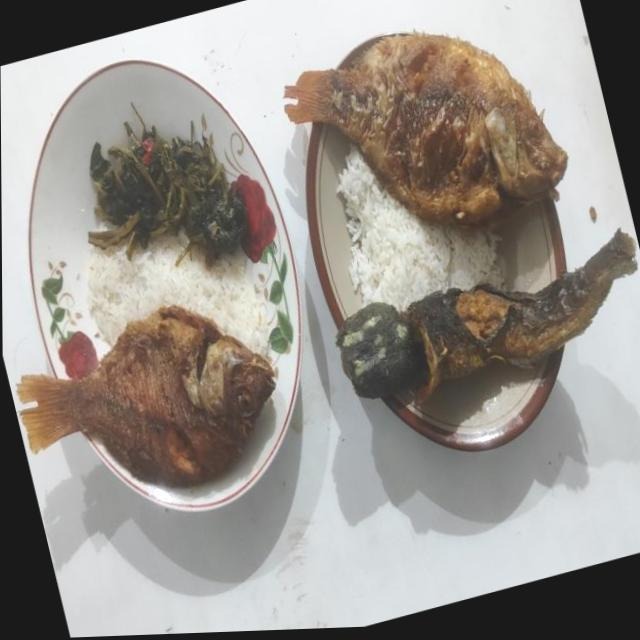ikan_mujair: (284, 32, 568, 226), (17, 304, 275, 486)
nasi_putih: (336, 145, 503, 310), (86, 232, 268, 354)
tumis_kangkung: (89, 121, 248, 258)
